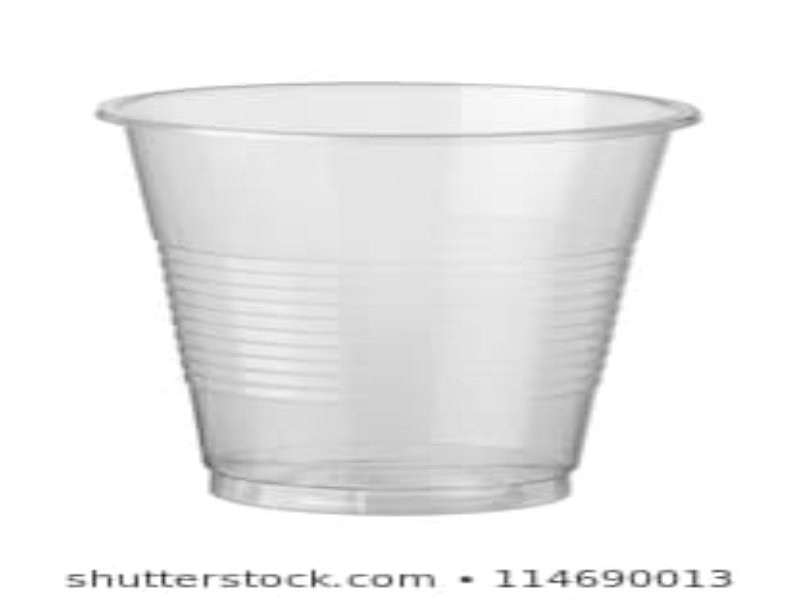plastic-cup: (88, 80, 704, 522)
